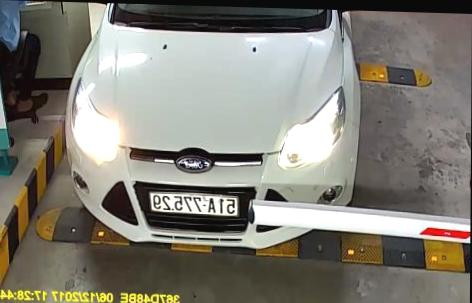License_Plate: (147, 184, 243, 220)
